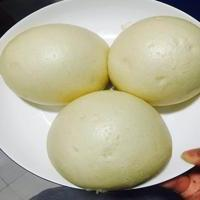biodegradable: (45, 88, 173, 190), (0, 22, 111, 107), (107, 15, 200, 107)
